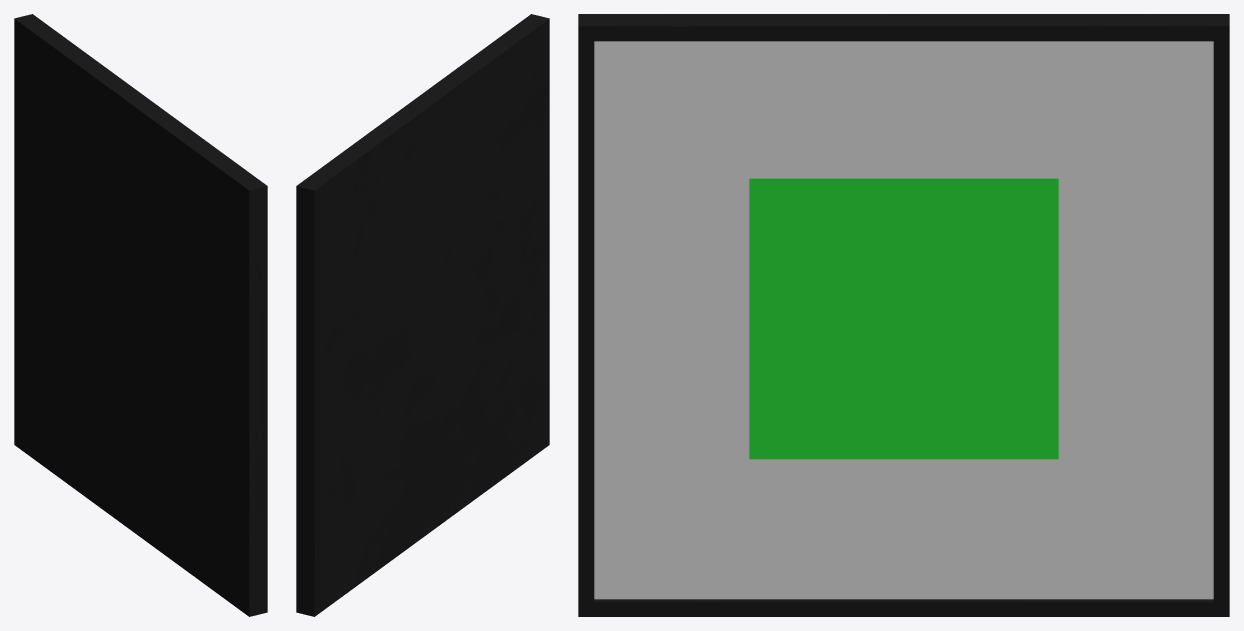
The model's file is square_frame.glb.
The picture shows the model from 3 angles, left to right: view 1: azimuth 30°, elevation 25°; view 2: azimuth 150°, elevation 25°; view 3: azimuth 270°, elevation 25°; orthographic projection. The views are drawn at different scales.
Parts seen in each view (by area): view 1: Frame; view 2: Frame; view 3: BackgroundCanvas, ArtCanvas, Frame.
Boxes of the visible parts, x1=… form: Frame: x1=14, y1=14, x2=267, y2=616; Frame: x1=296, y1=14, x2=549, y2=616; BackgroundCanvas: x1=594, y1=41, x2=1213, y2=599; ArtCanvas: x1=749, y1=178, x2=1058, y2=459; Frame: x1=578, y1=14, x2=1229, y2=616.
Bounding box in the file's own units: 0.2718 × 6 × 6.
Materials: 2 (1 with a texture image).
